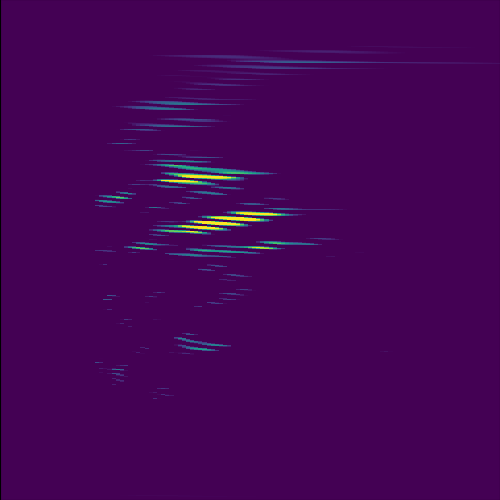semblance: (150, 207, 295, 237), (150, 163, 264, 194)
